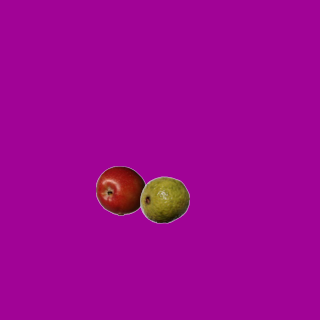Apple Braeburn: (95, 165, 145, 215)
Guava: (139, 174, 189, 224)
